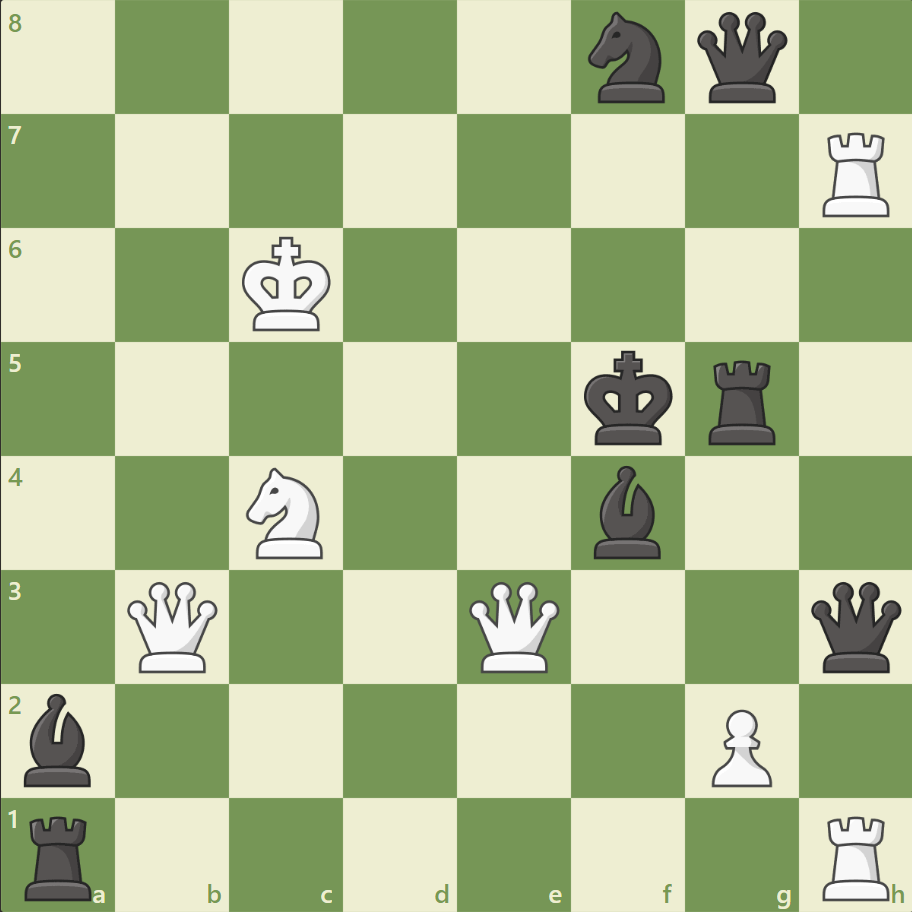K: (238, 231, 338, 339)
N: (238, 461, 335, 564)
P: (701, 700, 776, 791)
Q: (124, 576, 223, 676), (464, 576, 563, 676)
R: (814, 806, 897, 904), (814, 125, 897, 222)
b: (585, 460, 669, 563), (17, 687, 101, 790)
k: (579, 344, 679, 452)
n: (579, 7, 676, 110)
q: (805, 576, 904, 676), (691, 9, 790, 108)
r: (19, 806, 102, 904), (700, 352, 783, 449)
